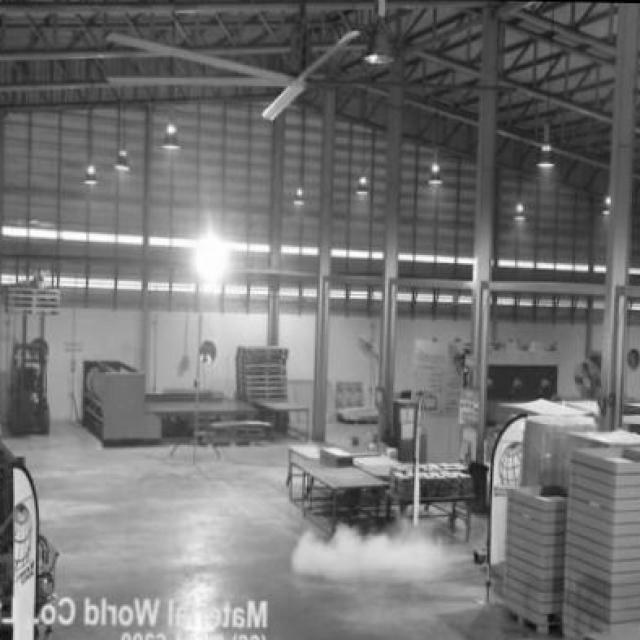fire: (288, 508, 477, 584)
